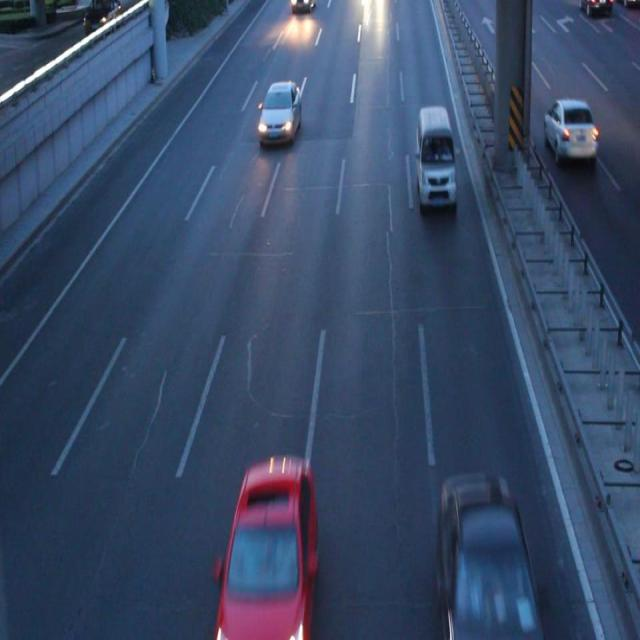car: (438, 481, 541, 640), (222, 458, 312, 630), (543, 100, 596, 158), (259, 82, 299, 138), (291, 1, 311, 11)
truck: (414, 105, 455, 206)
